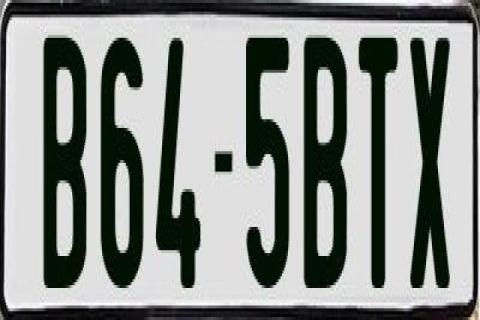0: (156, 35, 206, 288), (246, 29, 292, 285), (100, 35, 146, 288)
B: (42, 32, 92, 294), (304, 32, 352, 285)
T: (356, 35, 402, 294)
X: (410, 29, 456, 294)
